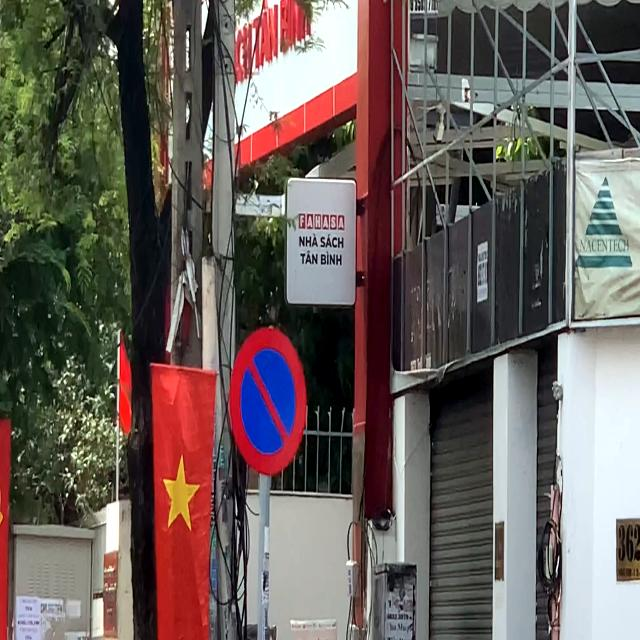P.131a: (231, 327, 309, 476)
